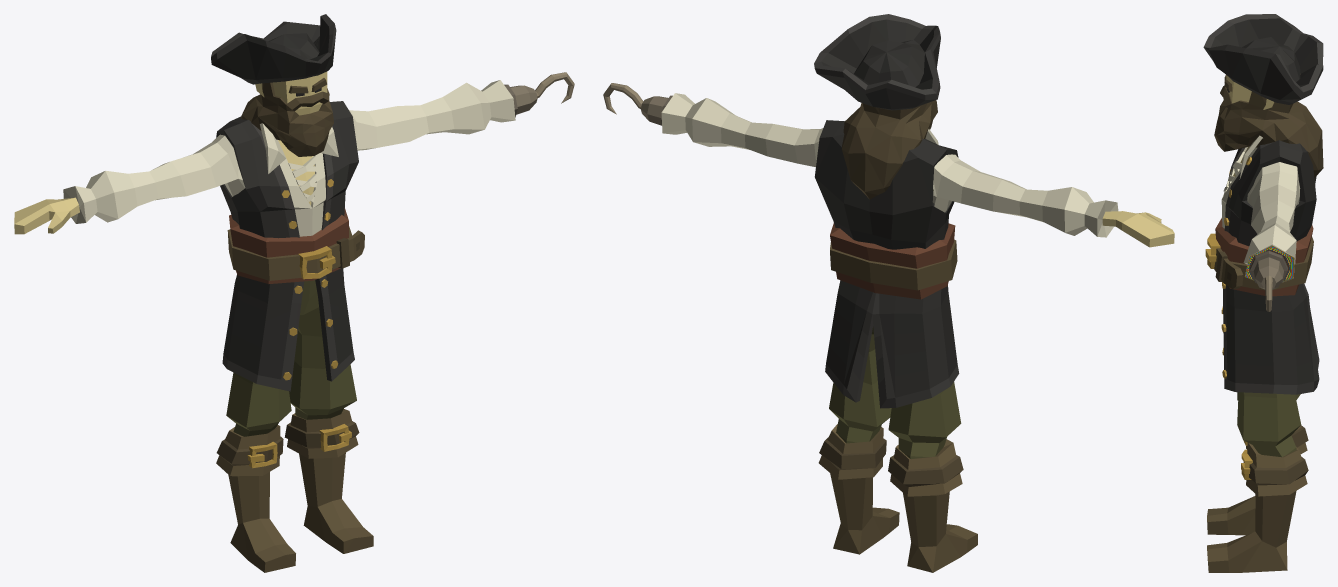
Rendered from PirateCapitan_1.fbx.
3 views of the same model, side by side, from view 1: azimuth 30°, elevation 25°; view 2: azimuth 150°, elevation 25°; view 3: azimuth 270°, elevation 25° (orthographic).
Parts seen in each view (by area): view 1: PirateCapitan_1; view 2: PirateCapitan_1; view 3: PirateCapitan_1.
Boxes of the visible parts, <box> form: PirateCapitan_1: <box>14,14,574,572</box>; PirateCapitan_1: <box>603,14,1174,572</box>; PirateCapitan_1: <box>1203,14,1323,572</box>.
Size of the model in its own units: 208 by 181 by 38.35.
